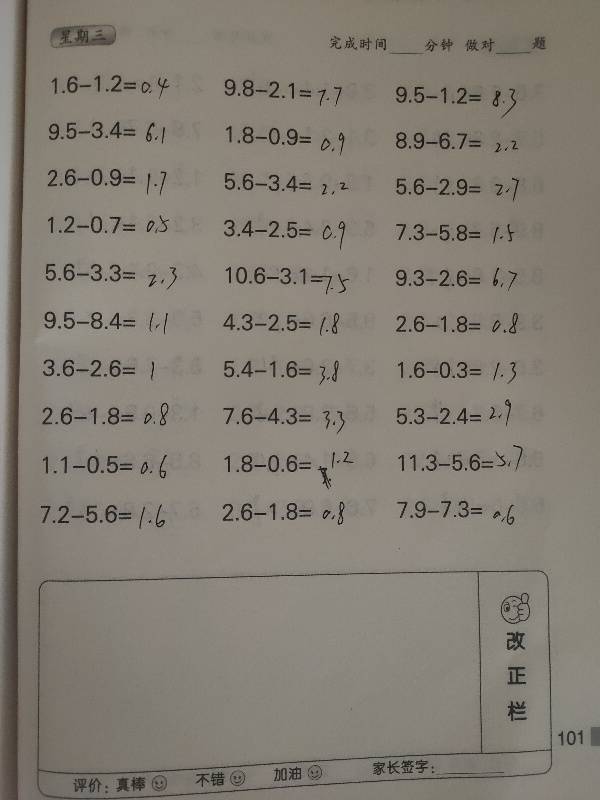equation: (220, 261, 359, 303), (35, 495, 171, 535), (388, 216, 527, 255), (39, 303, 176, 341), (39, 257, 183, 293), (36, 353, 167, 392), (388, 263, 525, 300), (391, 83, 519, 120), (221, 399, 349, 436), (217, 499, 356, 533), (43, 163, 180, 197), (44, 113, 177, 148), (220, 216, 348, 252), (37, 399, 181, 431), (220, 308, 351, 343), (391, 171, 529, 204), (395, 441, 527, 475), (389, 308, 529, 340), (220, 444, 360, 476), (392, 357, 527, 389), (392, 397, 525, 429), (43, 208, 172, 240), (40, 452, 171, 483), (220, 356, 343, 388), (221, 124, 348, 154), (47, 70, 173, 100), (393, 496, 519, 525), (220, 77, 345, 106), (391, 128, 521, 155), (220, 171, 351, 196)
